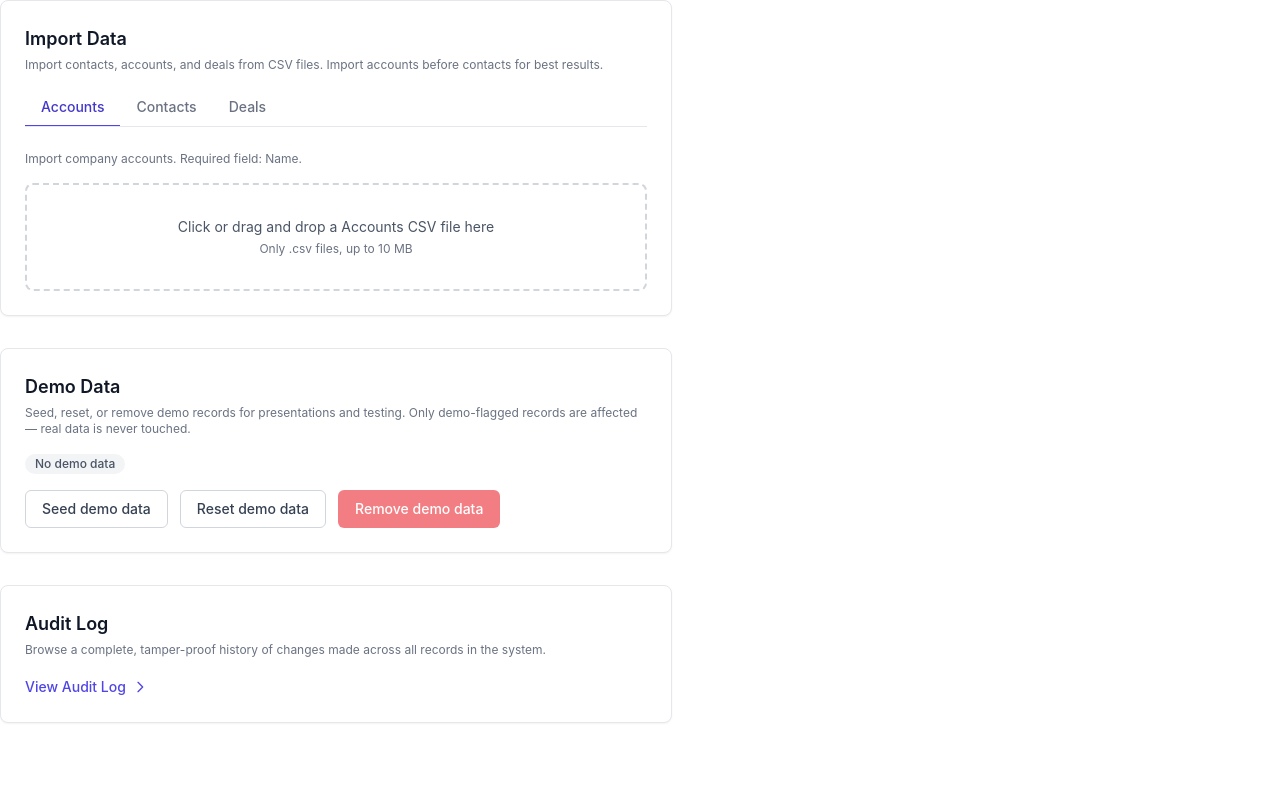
Test: DataSettings — demo data › closes confirm dialog on Cancel
This screenshot has width=1280, height=800.
Click the button with test id "demo-seed-button" at coordinates (96, 509), box [25,490,168,528]
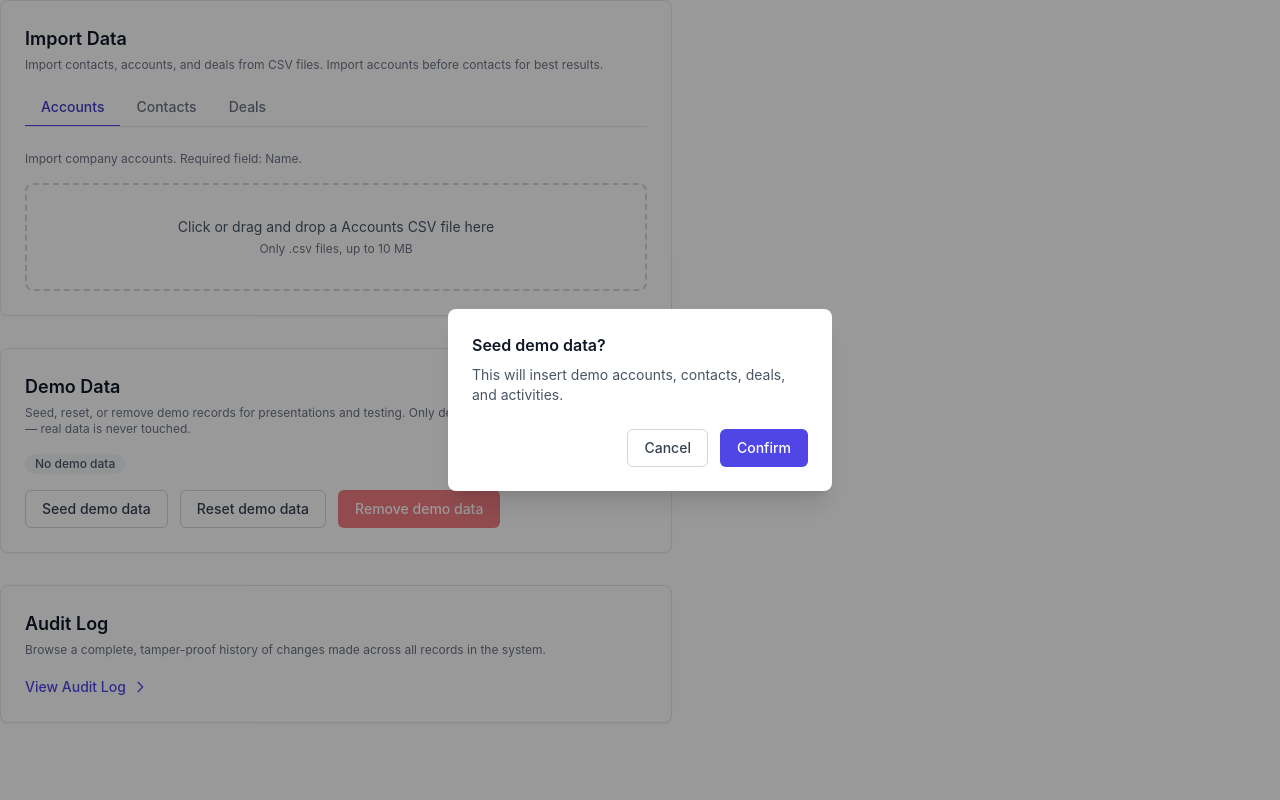
expect the dialog with test id "demo-confirm-dialog" is shown: met
Click the button with test id "demo-confirm-cancel" at coordinates (668, 448), box [628,429,708,467]
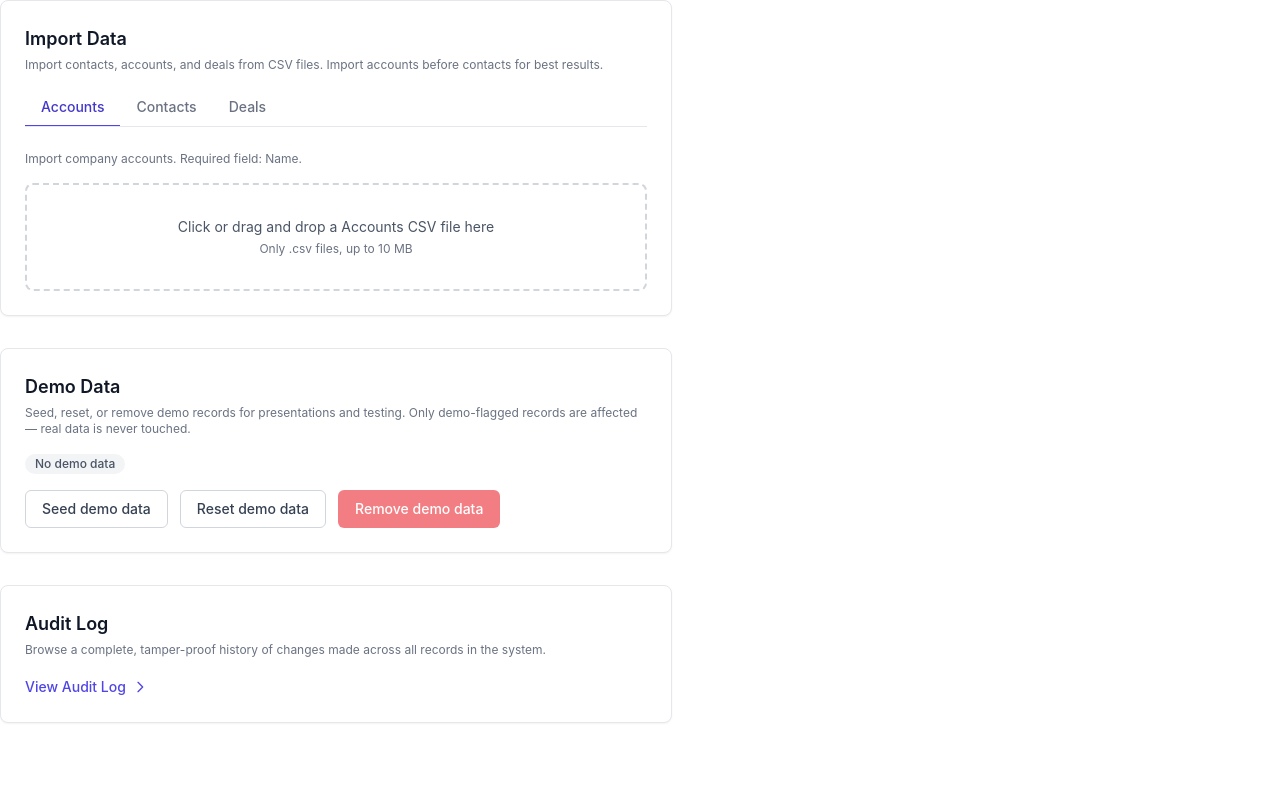
expect the dialog with test id "demo-confirm-dialog" is gone: met
